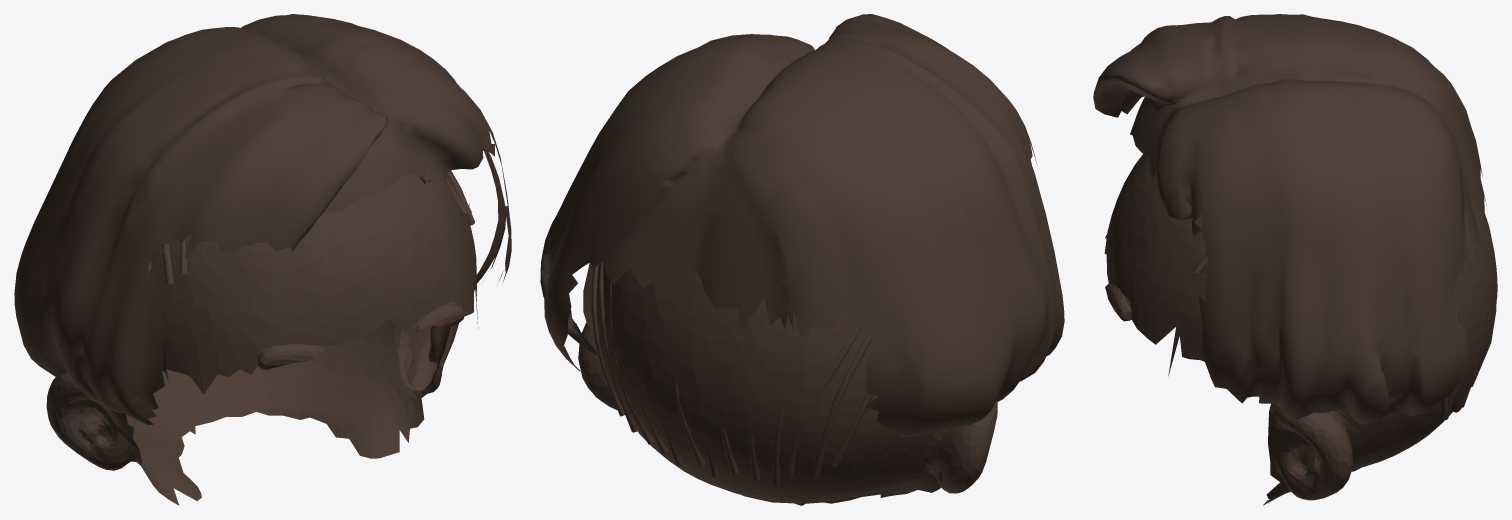
Rendered from bob.glb.
The picture shows the model from 3 angles, left to right: view 1: azimuth 30°, elevation 25°; view 2: azimuth 150°, elevation 25°; view 3: azimuth 270°, elevation 25°; orthographic projection. The views are drawn at different scales.
Parts seen in each view (by area): view 1: Hair, HairScalp, HairPulledRootStrands; view 2: Hair, HairScalp, HairPulledRootStrands; view 3: Hair, HairScalp, HairPulledRootStrands.
Boxes of the visible parts, x1,y1,x2,y2 form: Hair: (14, 14, 511, 424); HairScalp: (46, 161, 478, 505); HairPulledRootStrands: (147, 170, 474, 284); Hair: (540, 14, 1064, 437); HairScalp: (578, 263, 997, 505); HairPulledRootStrands: (591, 262, 873, 485); Hair: (1093, 14, 1486, 424); HairScalp: (1104, 154, 1497, 505); HairPulledRootStrands: (1193, 254, 1497, 419).
Size of the model in its own units: 0.573 by 0.5077 by 0.45.
